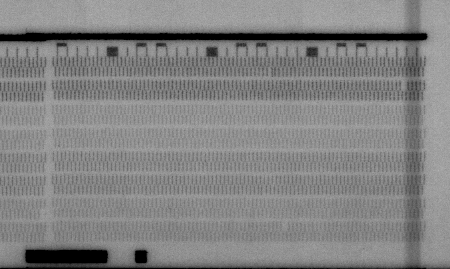Broken hole: (399, 79, 411, 92), (280, 221, 291, 232), (37, 210, 47, 221)
Oblique printing: (265, 65, 277, 78)
